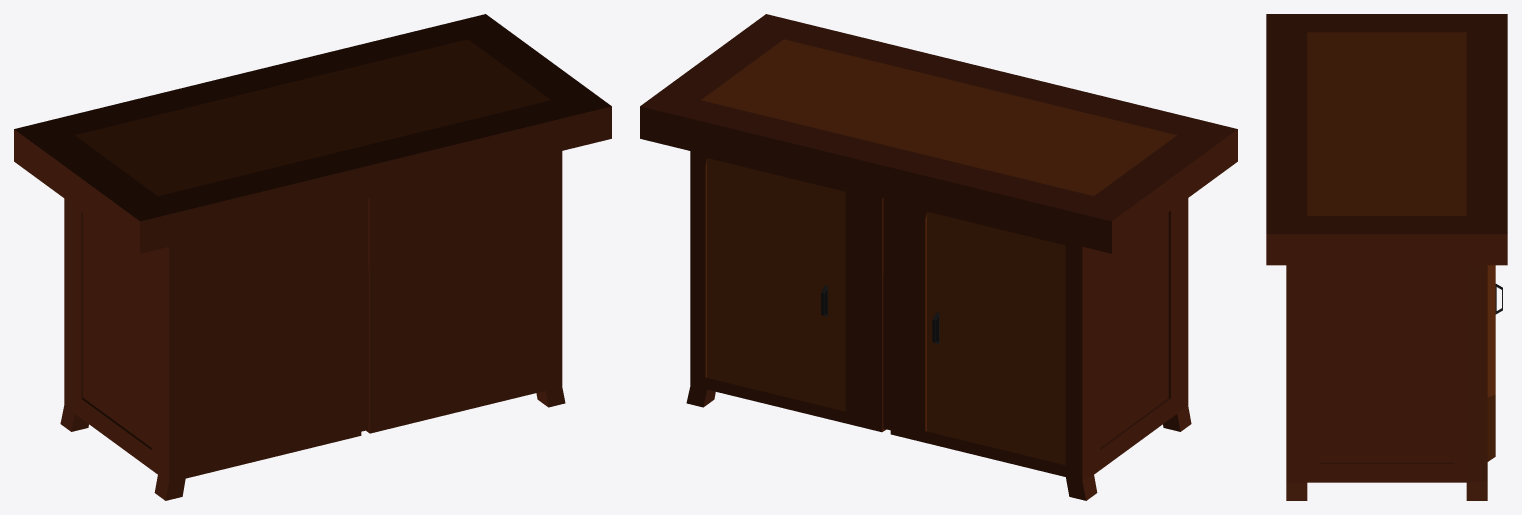
The model's file is Side Table 1.fbx.
3 views of the same model, side by side, from view 1: azimuth 30°, elevation 25°; view 2: azimuth 150°, elevation 25°; view 3: azimuth 270°, elevation 25° (orthographic). The views are drawn at different scales.
Visible parts, largest first — view 1: Node 0; view 2: Node 0, Node 2, Node 1; view 3: Node 0, Node 2.
Part boxes in pixels (box(x1,y1,x2,y2)): Node 0: box(14, 14, 611, 500); Node 0: box(640, 14, 1237, 500); Node 2: box(705, 158, 845, 411); Node 1: box(925, 211, 1065, 465); Node 0: box(1266, 14, 1507, 500); Node 2: box(1487, 265, 1502, 461).
Bounding box in the file's own units: 0.7794 × 1.01 × 1.68.
